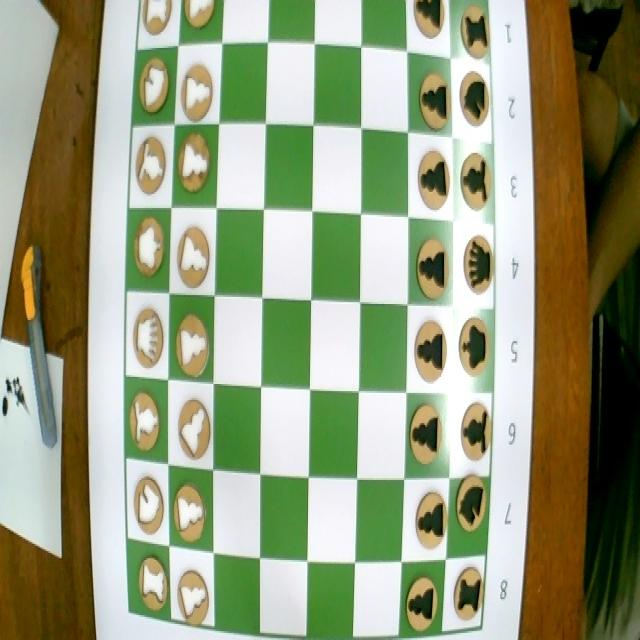chess-pieces: (412, 146, 453, 217), (174, 311, 212, 382), (176, 129, 212, 200), (452, 475, 493, 536), (126, 390, 161, 460), (409, 398, 445, 466), (458, 312, 492, 383), (176, 398, 211, 466), (132, 216, 168, 282), (132, 135, 168, 200), (414, 488, 450, 553), (413, 320, 449, 384), (176, 228, 212, 291), (178, 64, 214, 126), (132, 305, 166, 370), (416, 235, 450, 300), (452, 561, 486, 624), (456, 70, 491, 129), (460, 400, 492, 464), (458, 3, 492, 61), (460, 150, 491, 213), (405, 573, 438, 632), (418, 73, 452, 130), (463, 234, 494, 294), (138, 60, 170, 117), (410, 1, 448, 43), (138, 0, 174, 36), (182, 0, 217, 27)
